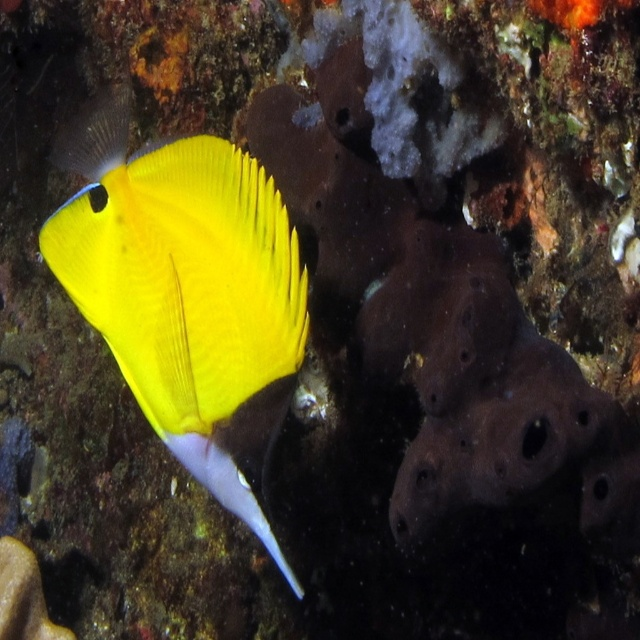Fish: (33, 130, 317, 601)
